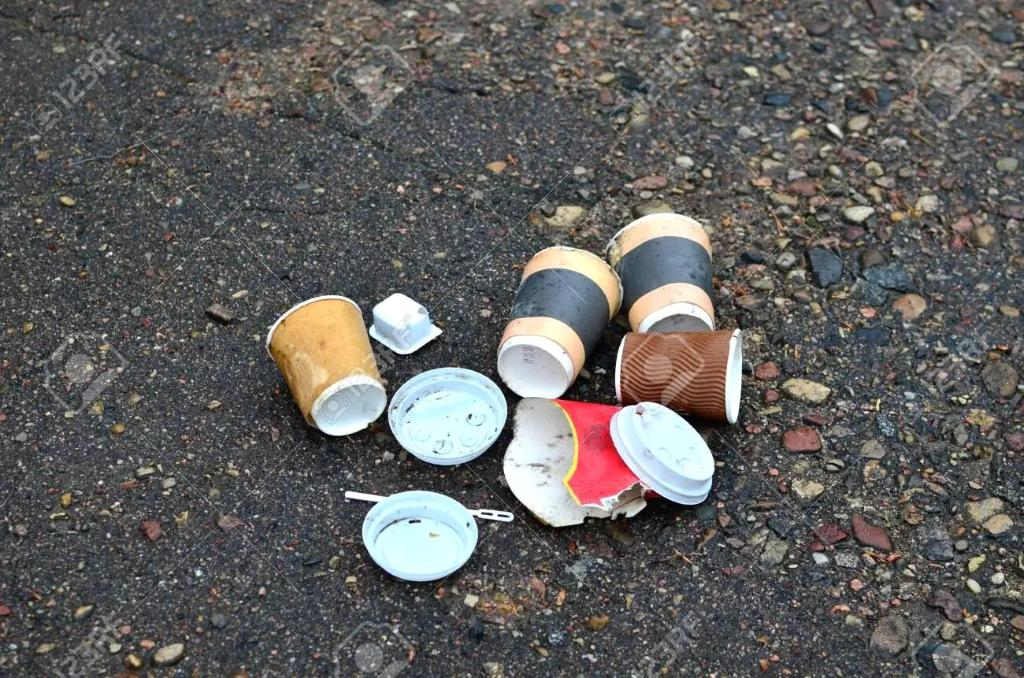garbage: (277, 201, 782, 615)
